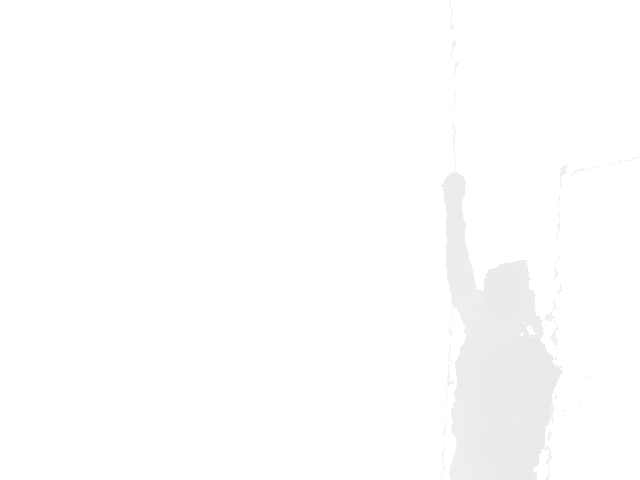hand: (442, 171, 467, 203)
head: (482, 259, 543, 337)
person: (442, 171, 564, 480)
